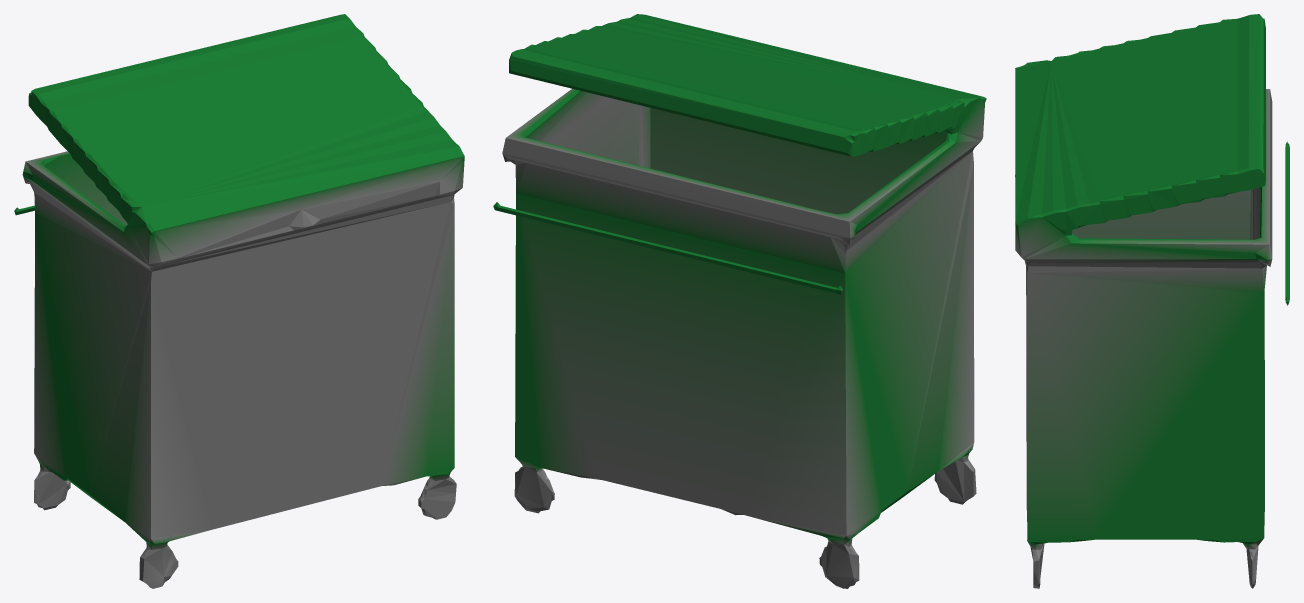
File: Dumpsters.glb
The picture shows the model from 3 angles, left to right: view 1: azimuth 30°, elevation 25°; view 2: azimuth 150°, elevation 25°; view 3: azimuth 270°, elevation 25°; orthographic projection. The views are drawn at different scales.
Parts seen in each view (by area): view 1: Root; view 2: Root; view 3: Root.
Boxes of the visible parts, x1=… form: Root: x1=14, y1=14, x2=464, y2=588; Root: x1=493, y1=14, x2=986, y2=588; Root: x1=1015, y1=14, x2=1289, y2=588.
Bounding box in the file's own units: 1.5 × 1.87 × 1.1.
